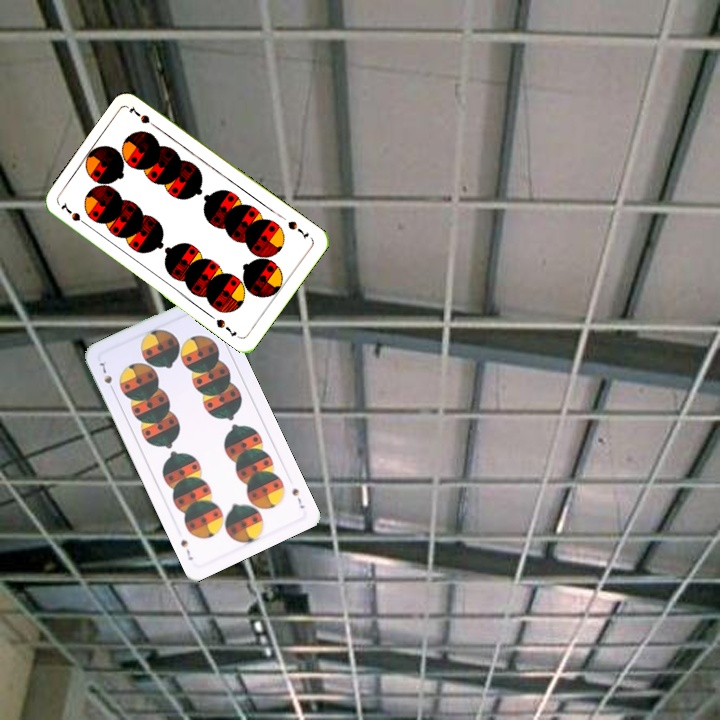S7: (57, 198, 91, 229), (95, 358, 117, 395), (284, 217, 312, 242), (288, 483, 307, 511)
